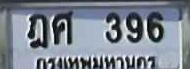3: (105, 11, 121, 42)
6: (146, 11, 163, 42)
9: (125, 11, 142, 42)
A14: (27, 13, 47, 47)
A38: (52, 10, 72, 44)
BKK: (34, 53, 159, 69)
